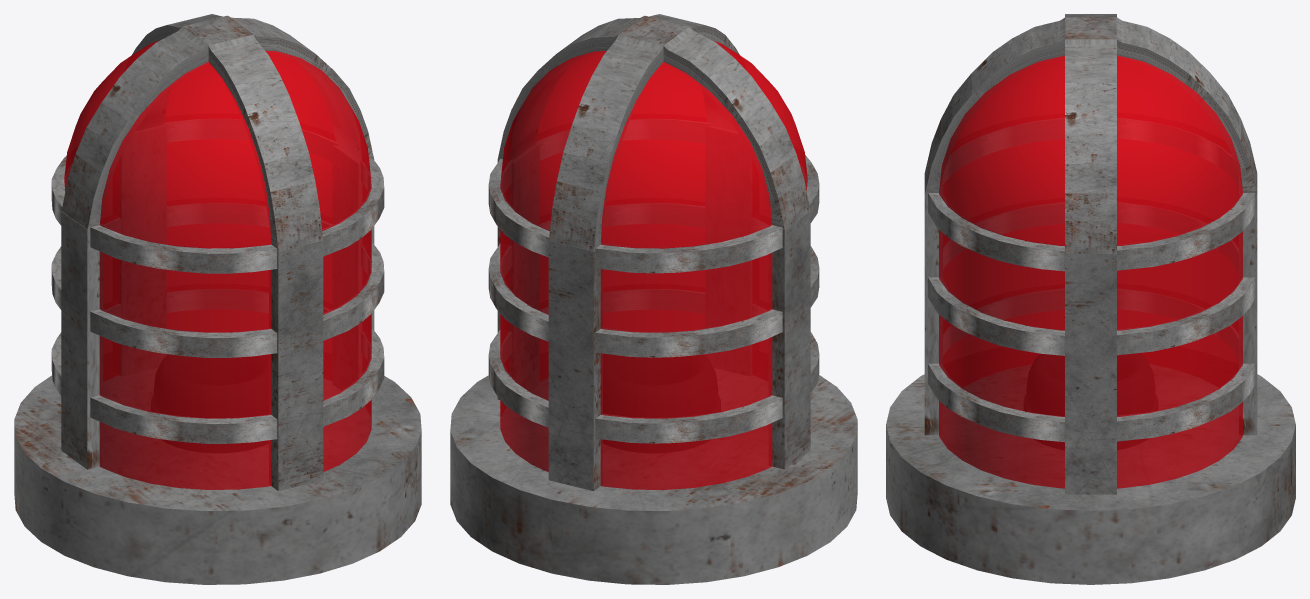
Rendered from AlarmWithoutLamp (FBX) 1K.fbx.
The picture shows the model from 3 angles, left to right: view 1: azimuth 30°, elevation 25°; view 2: azimuth 150°, elevation 25°; view 3: azimuth 270°, elevation 25°; orthographic projection.
Visible parts, largest first — view 1: Base, Glass Cylinder, Glass Sphere, Base1, Base4Round.003, Base4Round.001, Base2, Base3, LampMain, Base4, Round1Bottom, Round1Middle (+14 smaller); view 2: Base, Glass Cylinder, Glass Sphere, Base3, Base4Round.002, Base4Round.001, Base2, Base1, LampMain, Base4, Round2Middle, Round2Bottom (+14 smaller); view 3: Base, Glass Cylinder, Glass Sphere, Base4, Base4Round, Base4Round.003, Base4Round.002, LampMain, Round3Middle, Round3Bottom, Round4Bottom, Round4Middle (+11 smaller).
Part boxes in pixels (x1,y1,x2,y2): Base: (14, 368, 421, 584); Glass Cylinder: (99, 139, 371, 489); Glass Sphere: (64, 41, 371, 248); Base1: (269, 240, 323, 491); Base4Round.003: (208, 34, 323, 251); Base4Round.001: (61, 26, 208, 230); Base2: (61, 211, 102, 469); Base3: (120, 125, 165, 375); LampMain: (154, 355, 268, 417); Base4: (333, 145, 374, 399); Round1Bottom: (90, 395, 277, 443); Round1Middle: (90, 309, 277, 357); Base: (450, 368, 857, 584); Glass Cylinder: (500, 140, 772, 489); Glass Sphere: (500, 41, 807, 248); Base3: (548, 240, 602, 491); Base4Round.002: (549, 34, 663, 251); Base4Round.001: (663, 26, 810, 229); Base2: (769, 211, 810, 469); Base1: (706, 126, 751, 375); LampMain: (603, 354, 717, 417); Base4: (497, 145, 538, 399); Round2Middle: (595, 309, 782, 357); Round2Bottom: (595, 395, 782, 443); Base: (886, 364, 1295, 584); Glass Cylinder: (939, 139, 1242, 488); Glass Sphere: (939, 55, 1242, 246); Base4: (1065, 254, 1116, 494); Base4Round: (1065, 39, 1116, 253); Base4Round.003: (924, 17, 1065, 195); Base4Round.002: (1116, 17, 1257, 194); LampMain: (1027, 353, 1154, 415); Round3Middle: (1117, 277, 1255, 355); Round3Bottom: (1117, 363, 1255, 441); Round4Bottom: (928, 363, 1064, 442); Round4Middle: (928, 277, 1064, 355).
Bounding box in the file's own units: 200 × 253 × 200.
3 materials, 2 textured.
